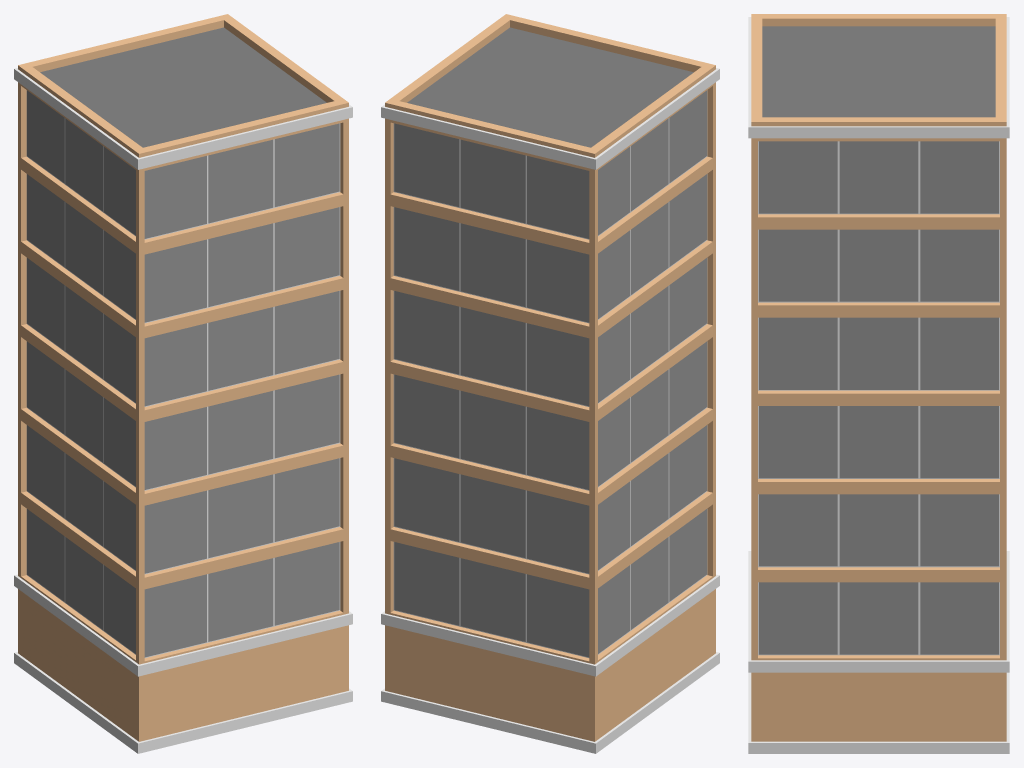
The model's file is SM_House_16_01.FBX.
3 renders of one model, left to right at view 1: azimuth 30°, elevation 25°; view 2: azimuth 150°, elevation 25°; view 3: azimuth 270°, elevation 25°, orthographic. The views are drawn at different scales.
Visible parts, largest first — view 1: SM_House_16_01; view 2: SM_House_16_01; view 3: SM_House_16_01.
Boxes of the visible parts, box(x1,y1,x2,y2) form: SM_House_16_01: box(14, 14, 352, 753); SM_House_16_01: box(381, 14, 719, 753); SM_House_16_01: box(748, 14, 1009, 753).
Size of the model in its own units: 3.07 by 8.17 by 3.07.
1 material, 1 textured.
